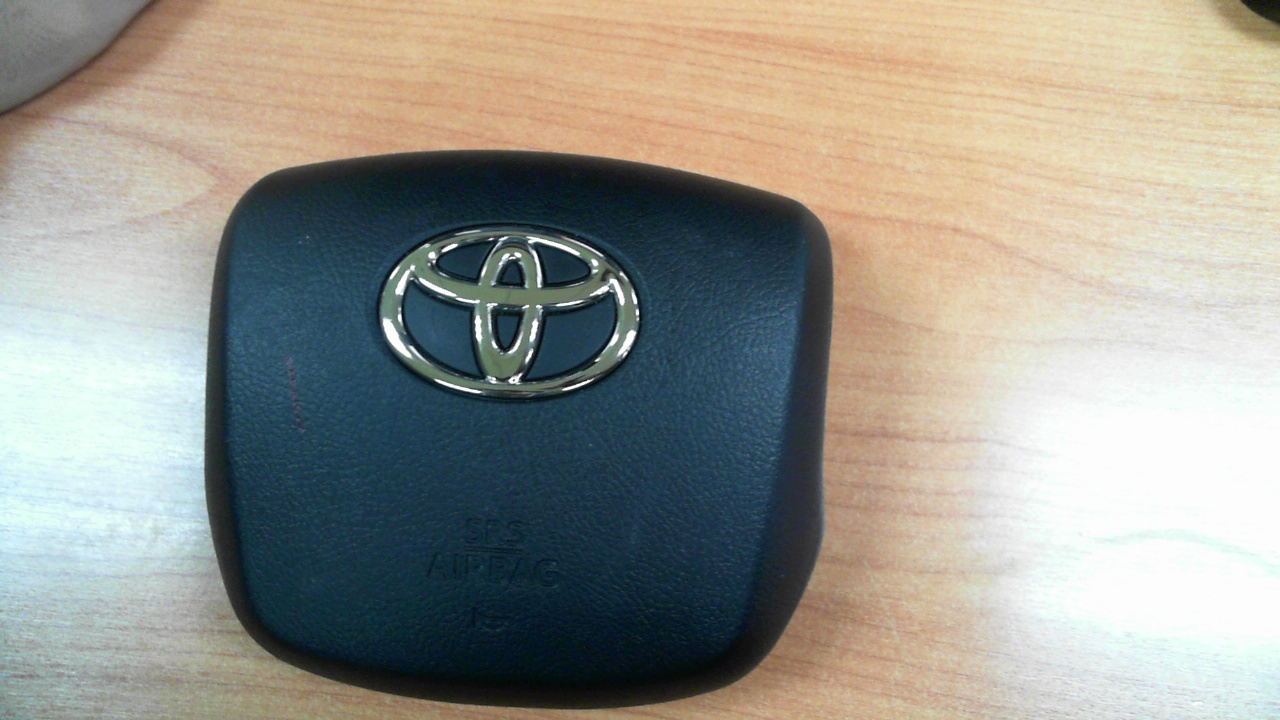Airbag: (203, 148, 835, 711)
Toyota: (379, 226, 641, 399)
